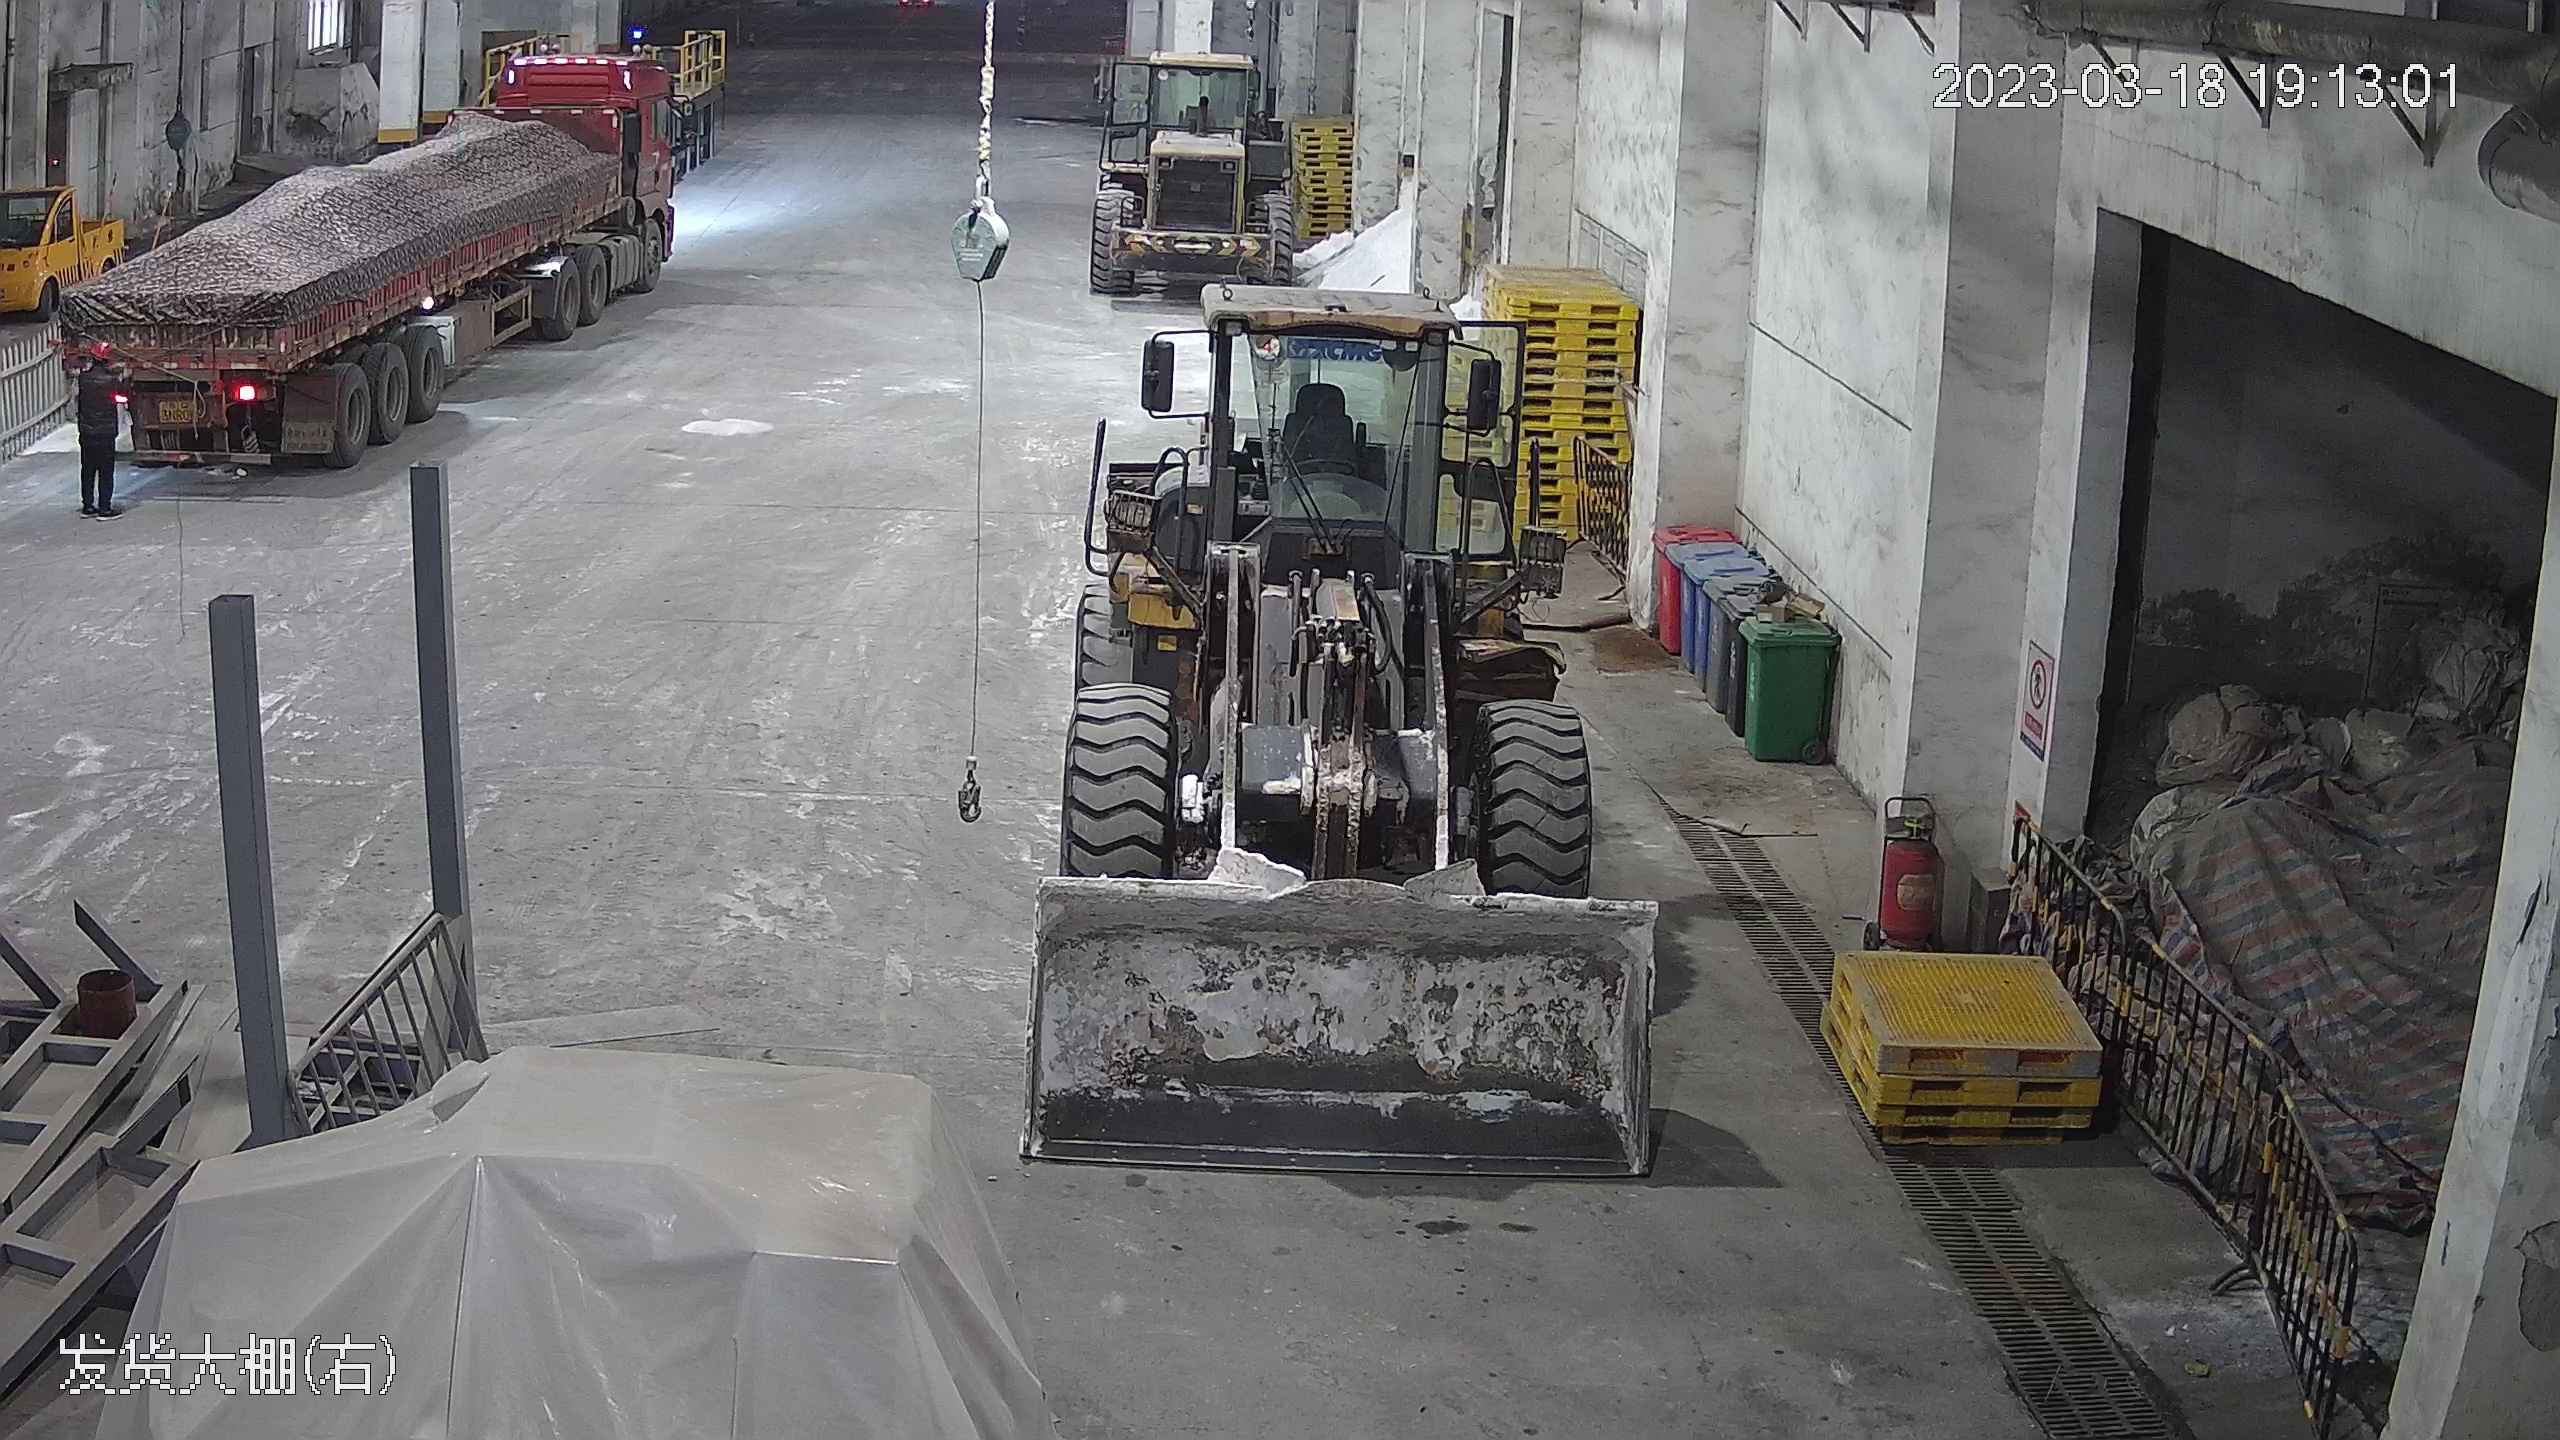head: (76, 332, 126, 395)
helmet: (89, 334, 118, 357)
people: (65, 326, 129, 528)
truck: (40, 9, 705, 496)
